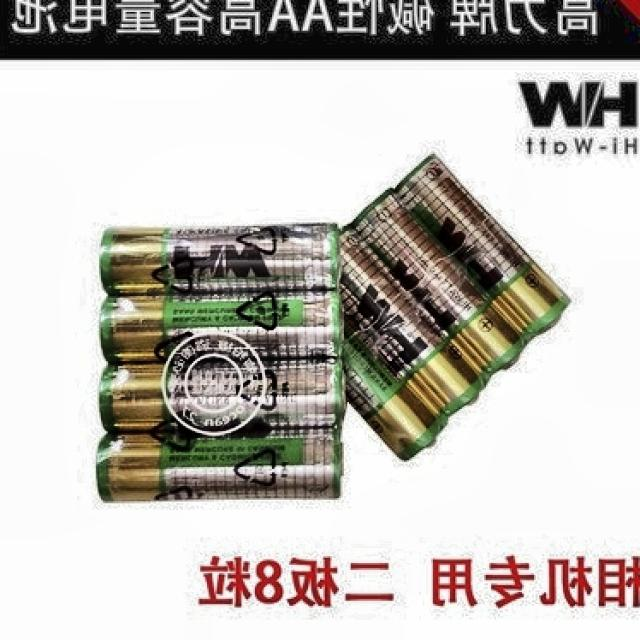Non-Valuable Waste - Batteries: (340, 155, 570, 459), (96, 224, 344, 500)
